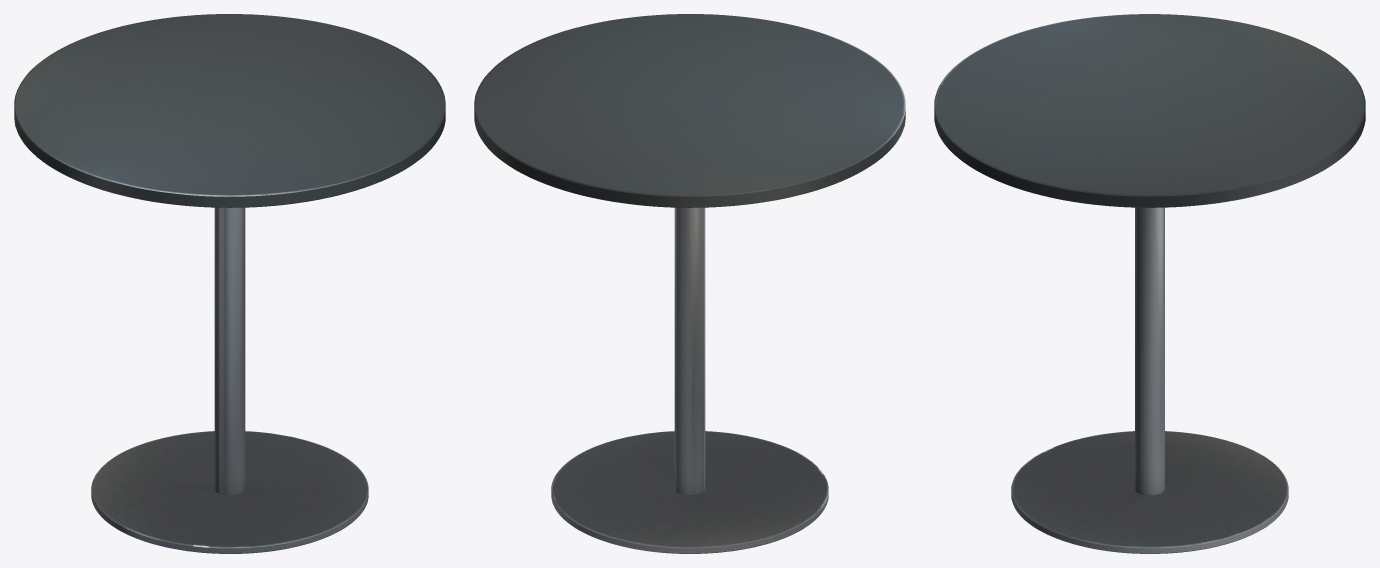
File: brio_70_60_black_stainless_steel.glb
The picture shows the model from 3 angles, left to right: view 1: azimuth 30°, elevation 25°; view 2: azimuth 150°, elevation 25°; view 3: azimuth 270°, elevation 25°; orthographic projection.
Parts seen in each view (by area): view 1: brio_70-black; view 2: brio_70-black; view 3: brio_70-black.
Boxes of the visible parts, <box> form: brio_70-black: <box>14,14,445,553</box>; brio_70-black: <box>474,14,905,553</box>; brio_70-black: <box>934,14,1365,553</box>.
Bounding box in the file's own units: 0.7 × 0.6999 × 0.7.
Materials: 1 (1 with a texture image).
